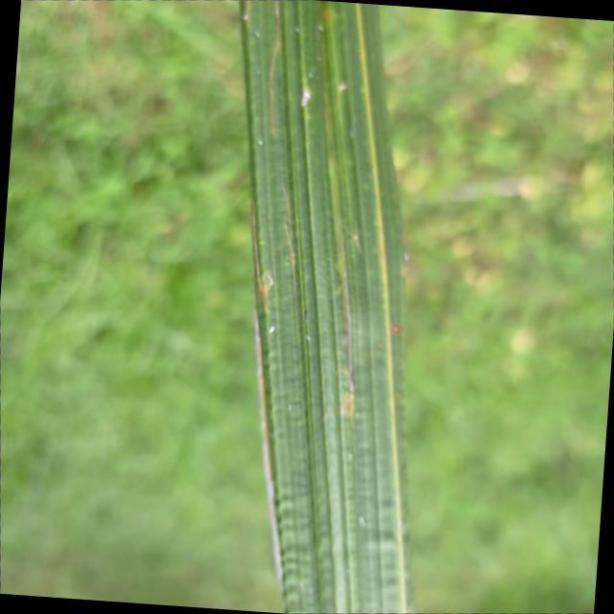Boron: (235, 0, 409, 614)
